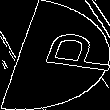P_W: (8, 31, 102, 79)
